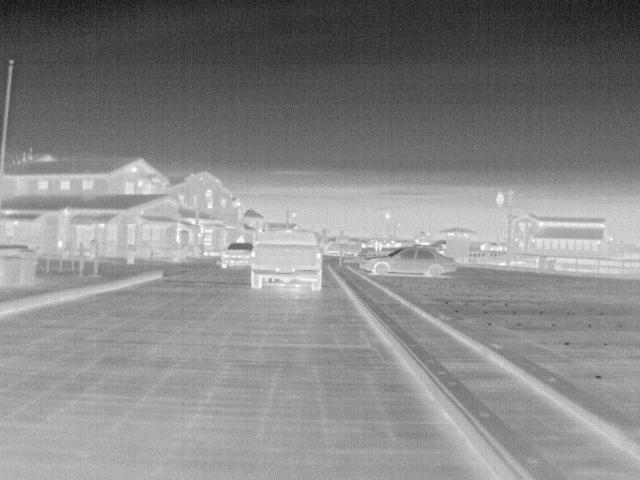car: (249, 227, 325, 291), (355, 245, 458, 278), (220, 240, 257, 269)
person: (234, 234, 246, 246)
